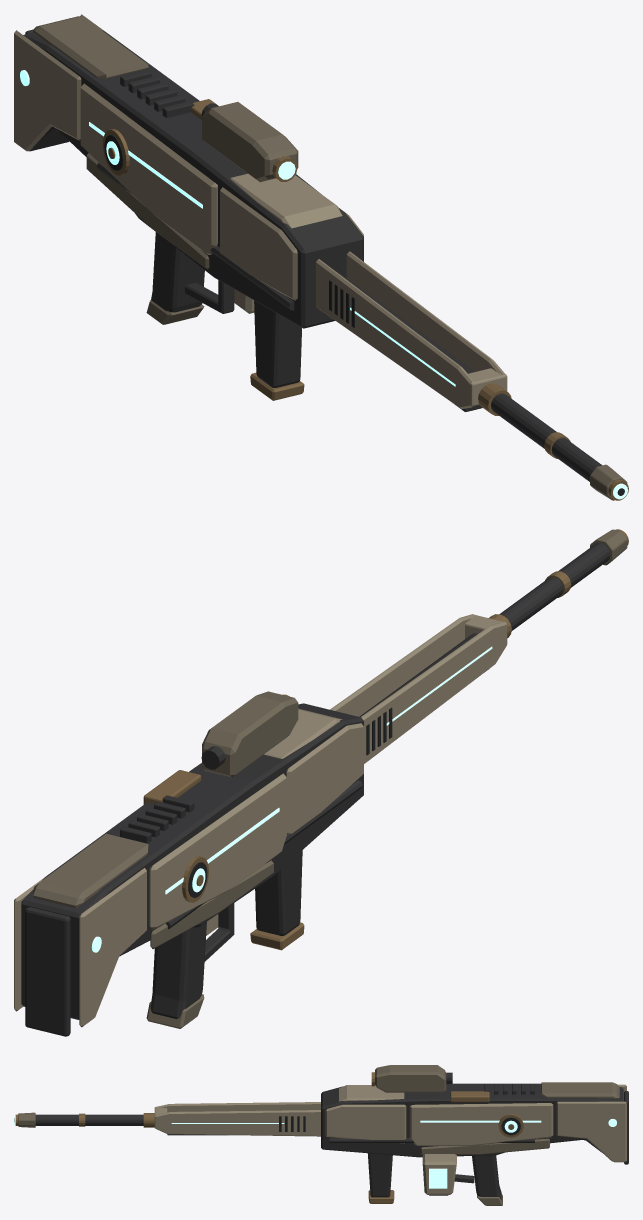
The model's file is hero_rifle.glb.
3 renders of one model, top to bottom at view 1: azimuth 30°, elevation 25°; view 2: azimuth 150°, elevation 25°; view 3: azimuth 270°, elevation 25°, orthographic. The views are drawn at different scales.
Parts seen in each view (by area): view 1: rifle; view 2: rifle; view 3: rifle.
Boxes of the visible parts, x1=… form: rifle: x1=14, y1=14, x2=628, y2=500; rifle: x1=14, y1=529, x2=628, y2=1036; rifle: x1=14, y1=1065, x2=628, y2=1205.
Bounding box in the file's own units: 3.29 × 6.8 × 28.45.
